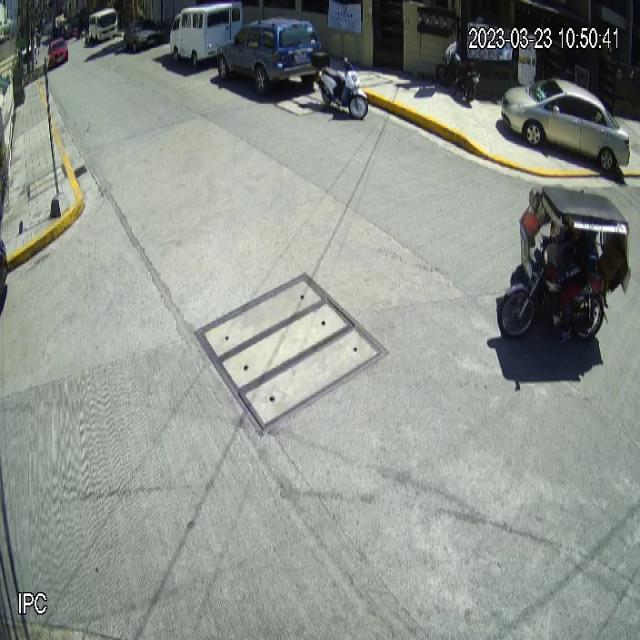Car: (500, 76, 630, 173), (215, 15, 322, 93)
Motorcycle: (311, 51, 368, 120)
Tricycle: (496, 182, 630, 345)
Van: (170, 0, 244, 68)
